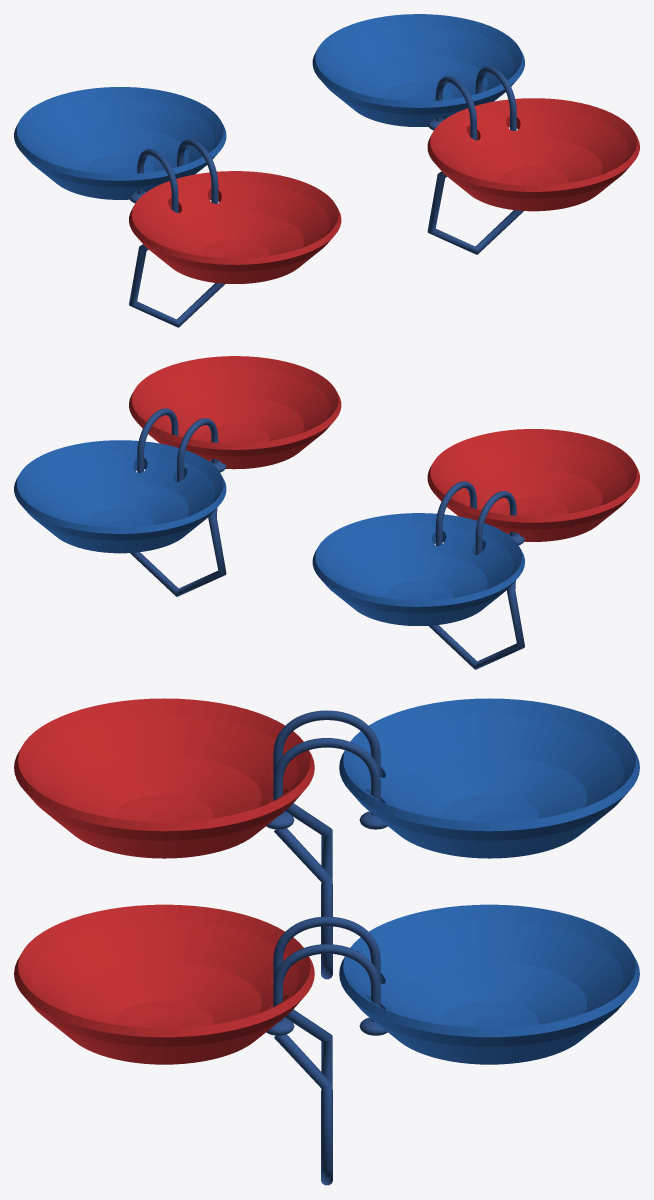
File: A-NEW-20261026-CASTANETS-PAIR-001_LOD0_R4.fbx
3 views of the same model, one above another, from view 1: azimuth 30°, elevation 25°; view 2: azimuth 150°, elevation 25°; view 3: azimuth 270°, elevation 25° (orthographic). The views are drawn at different scales.
Visible parts, largest first — view 1: right cup shell 0, left cup shell 0, left cup shell 1, right cup shell 1, left finger elastic loop, right finger elastic loop, left hinge elastic -0.008, left hinge elastic 0.008, right hinge elastic -0.008, right hinge elastic 0.008; view 2: right cup shell 1, left cup shell 1, left cup shell 0, right cup shell 0, left finger elastic loop, right finger elastic loop, left hinge elastic -0.008, left hinge elastic 0.008, right hinge elastic -0.008, right hinge elastic 0.008; view 3: left cup shell 0, left cup shell 1, right cup shell 0, right cup shell 1, right finger elastic loop, left finger elastic loop, right hinge elastic 0.008, left hinge elastic 0.008, right hinge elastic -0.008, left hinge elastic -0.008.
Part boxes in pixels (x1,y1,x2,y2): right cup shell 0: (427, 98, 639, 211); left cup shell 0: (129, 171, 341, 283); left cup shell 1: (14, 87, 226, 199); right cup shell 1: (312, 14, 524, 126); left finger elastic loop: (129, 244, 224, 327); right finger elastic loop: (427, 171, 523, 254); left hinge elastic -0.008: (137, 149, 178, 212); left hinge elastic 0.008: (177, 139, 218, 203); right hinge elastic -0.008: (435, 76, 476, 140); right hinge elastic 0.008: (475, 66, 516, 131); right cup shell 1: (14, 440, 226, 553); left cup shell 1: (312, 513, 524, 625); left cup shell 0: (427, 429, 639, 541); right cup shell 0: (129, 356, 341, 469); left finger elastic loop: (429, 581, 524, 669); right finger elastic loop: (130, 508, 226, 596); left hinge elastic -0.008: (475, 491, 516, 554); left hinge elastic 0.008: (435, 481, 476, 545); right hinge elastic -0.008: (177, 418, 218, 482); right hinge elastic 0.008: (137, 408, 178, 473); left cup shell 0: (14, 698, 314, 858); left cup shell 1: (339, 698, 639, 858); right cup shell 0: (14, 904, 314, 1064); right cup shell 1: (339, 904, 639, 1064); right finger elastic loop: (274, 1009, 332, 1185); left finger elastic loop: (274, 803, 332, 979); right hinge elastic 0.008: (273, 944, 380, 1021); left hinge elastic 0.008: (273, 738, 380, 815); right hinge elastic -0.008: (273, 916, 380, 982); left hinge elastic -0.008: (273, 710, 380, 776).
Size of the model in its own units: 19.4 by 6.92 by 15.4.
